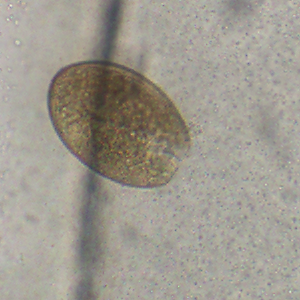Fasciola_hepatica_egg: (44, 59, 191, 190)
